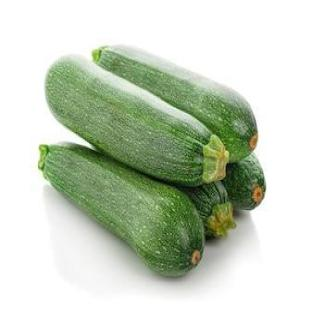Zucchini: (46, 56, 228, 185), (38, 146, 204, 275), (93, 46, 257, 161), (180, 182, 236, 237), (223, 154, 265, 209)
